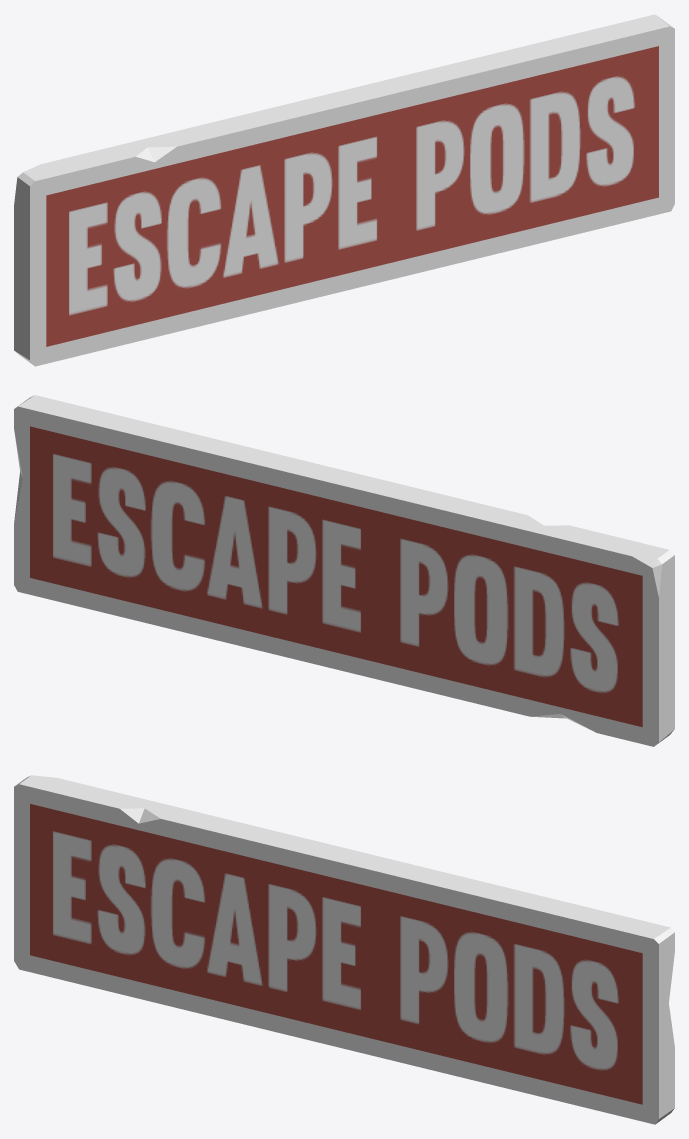
The model's file is SM_Sign_EscpapePod_01.fbx.
3 views of the same model, one above another, from view 1: azimuth 30°, elevation 25°; view 2: azimuth 150°, elevation 25°; view 3: azimuth 330°, elevation 25° (orthographic).
Parts seen in each view (by area): view 1: SM_Sign_EscpapePod_01; view 2: SM_Sign_EscpapePod_01; view 3: SM_Sign_EscpapePod_01.
Boxes of the visible parts, <box> form: SM_Sign_EscpapePod_01: <box>14,14,674,366</box>; SM_Sign_EscpapePod_01: <box>14,395,674,746</box>; SM_Sign_EscpapePod_01: <box>14,775,674,1124</box>.
Bounding box in the file's own units: 334 × 91.8 × 14.42.
1 material, 1 textured.
